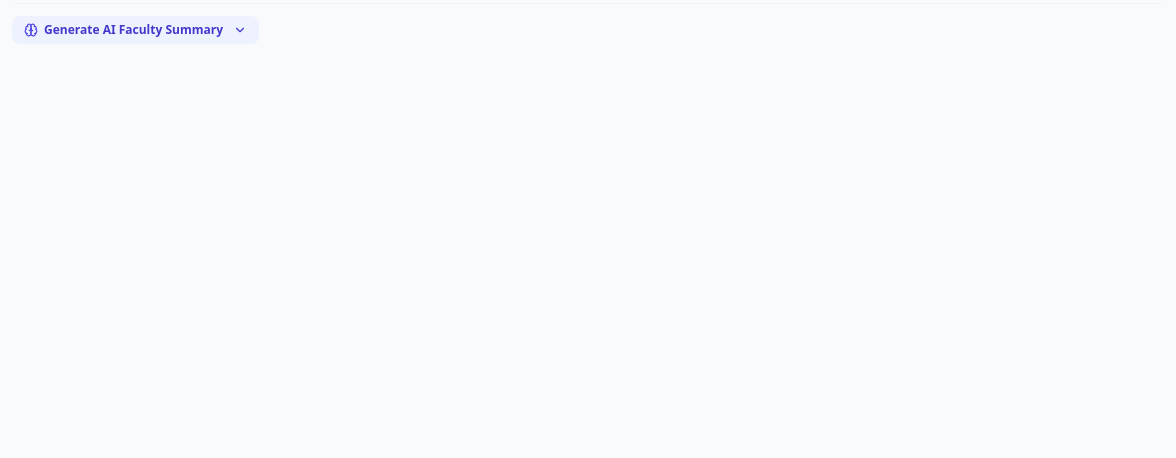
Test case: GenAI Frontend Features Integration › Feature 4: AIFacultySummarizer should generate technical briefing and verdict for faculty
Click the button "Generate AI Faculty Summary": (136, 30) x1=12 y1=16 x2=259 y2=44
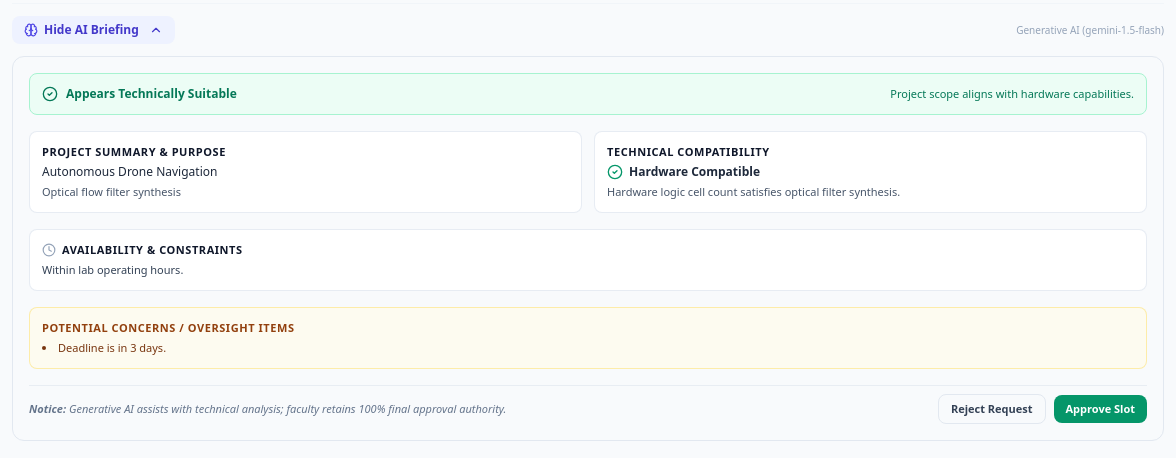
Expected: the text "Appears Technically Suitable" is shown, x1=66 y1=86 x2=237 y2=102
Expected: the text "Hardware Compatible" is shown, x1=629 y1=164 x2=760 y2=180
